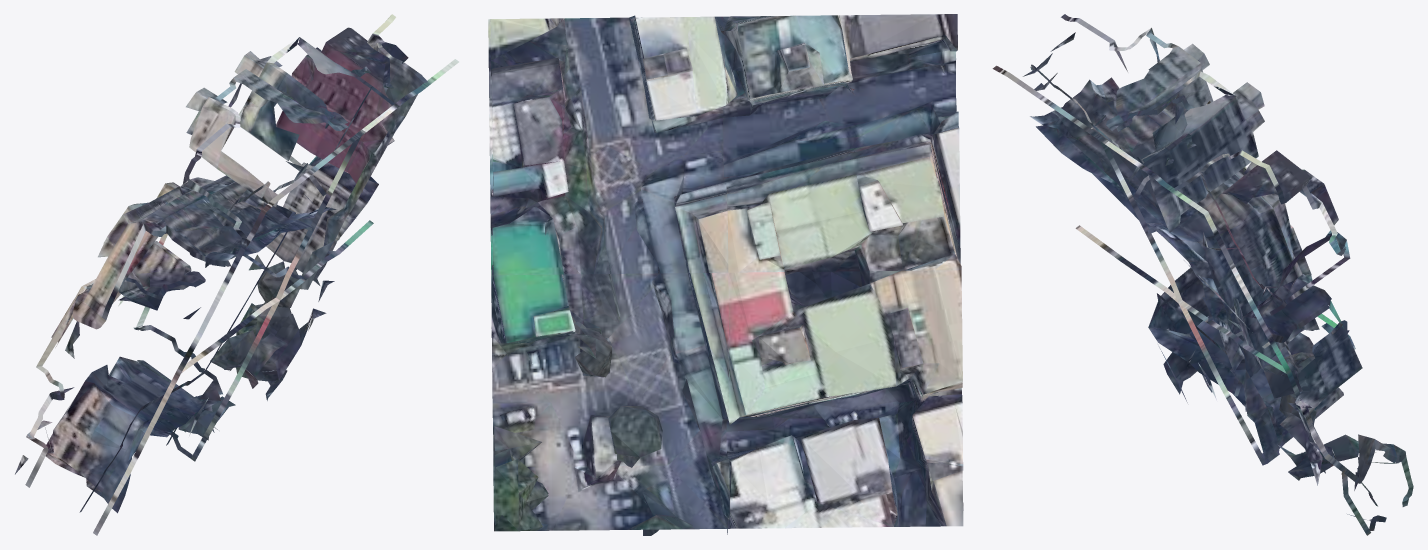
3 renders of one model, left to right at view 1: azimuth 30°, elevation 25°; view 2: azimuth 150°, elevation 25°; view 3: azimuth 270°, elevation 25°, orthographic. The views are drawn at different scales.
Size of the model in its own units: 84.81 by 79.03 by 72.12.
Materials: 2 (2 with a texture image).
